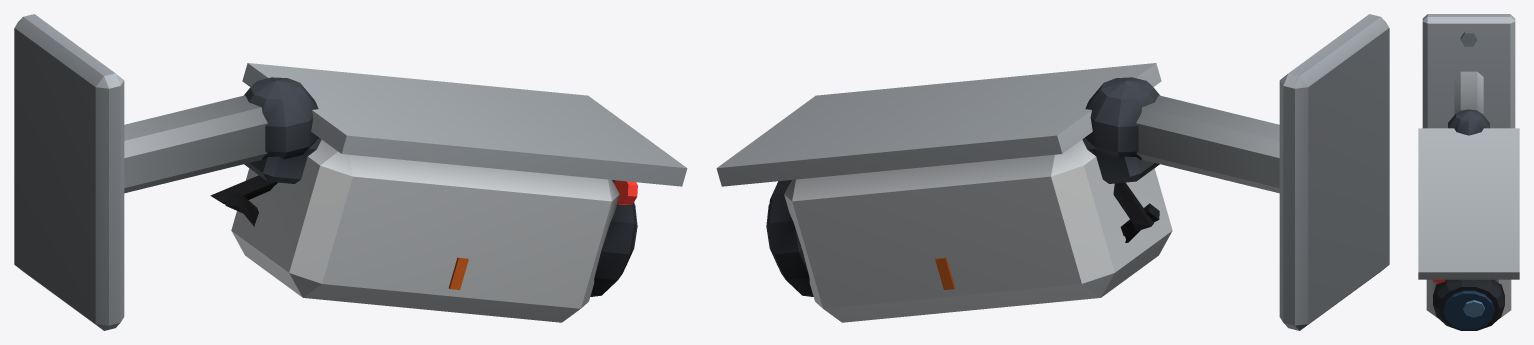
Rendered from cctv.glb.
3 views of the same model, side by side, from view 1: azimuth 30°, elevation 25°; view 2: azimuth 150°, elevation 25°; view 3: azimuth 270°, elevation 25° (orthographic). The views are drawn at different scales.
Parts seen in each view (by area): view 1: Head, Body; view 2: Head, Body; view 3: Head, Body.
Boxes of the visible parts, x1,y1,x2,y2 form: Head: [210, 63, 687, 322]; Body: [14, 14, 318, 330]; Head: [716, 63, 1172, 322]; Body: [1085, 14, 1389, 330]; Head: [1418, 128, 1519, 330]; Body: [1422, 14, 1515, 135].
Size of the model in its own units: 0.8137 by 0.4947 by 0.24.
